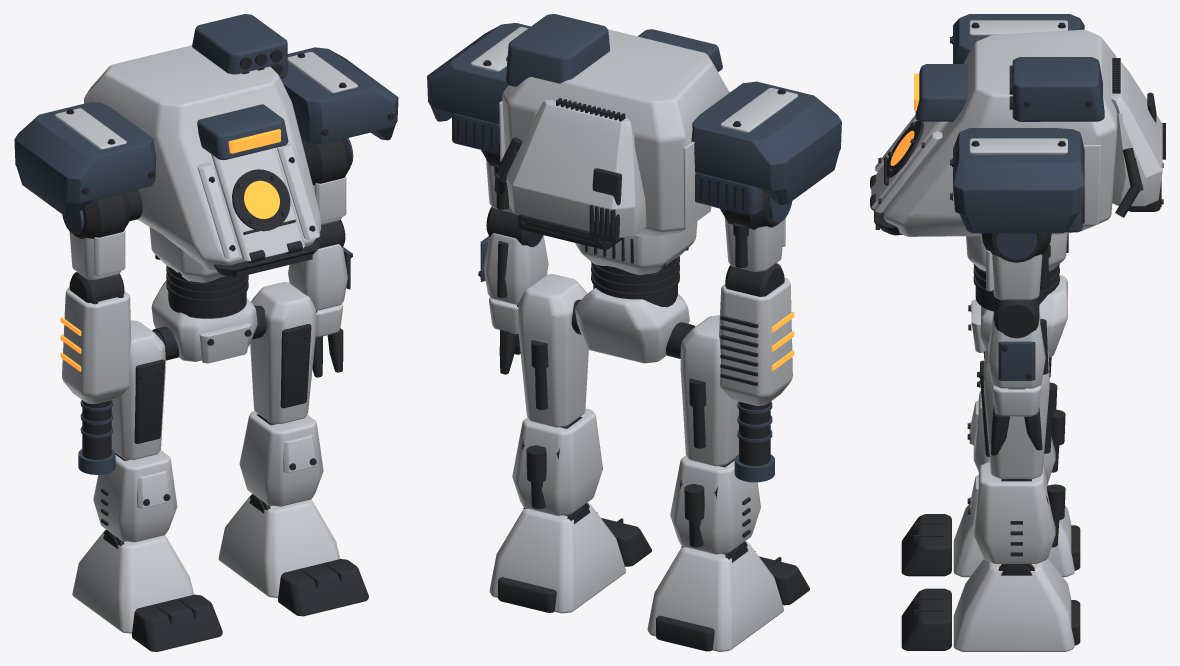
File: Titan_M1_unity.fbx
3 views of the same model, side by side, from view 1: azimuth 30°, elevation 25°; view 2: azimuth 150°, elevation 25°; view 3: azimuth 270°, elevation 25° (orthographic). The views are drawn at different scales.
Visible parts, largest first — view 1: M1_Torso_Upper, M1_Shoulder_R, M1_Cannon, M1_Shoulder_L, M1_Foot_L, M1_Foot_R, M1_Thigh_L, M1_Hatch_Center, M1_Shin_L, M1_Shin_R, M1_Thigh_R, M1_Pelvis (+13 smaller); view 2: M1_Torso_Upper, M1_Backpack, M1_Shoulder_R, M1_Cannon, M1_Foot_R, M1_Foot_L, M1_Thigh_L, M1_Shin_L, M1_Shoulder_L, M1_Shin_R, M1_Thigh_R, M1_Pelvis (+10 smaller); view 3: M1_Torso_Upper, M1_Shoulder_L, M1_Foot_L, M1_Shin_L, M1_Backpack, M1_Pod_L, M1_Forearm_L, M1_Thigh_L, M1_UpperArm_L, M1_Shoulder_R, M1_Toe_R, M1_Toe_L (+10 smaller).
Part boxes in pixels (bbox=[...]): M1_Torso_Upper: bbox=[84, 45, 321, 277]; M1_Shoulder_R: bbox=[14, 101, 156, 217]; M1_Cannon: bbox=[60, 272, 131, 474]; M1_Shoulder_L: bbox=[281, 47, 398, 144]; M1_Foot_L: bbox=[218, 495, 340, 597]; M1_Foot_R: bbox=[72, 531, 194, 633]; M1_Thigh_L: bbox=[250, 282, 317, 423]; M1_Hatch_Center: bbox=[211, 148, 304, 263]; M1_Shin_L: bbox=[239, 411, 323, 506]; M1_Shin_R: bbox=[93, 450, 177, 542]; M1_Thigh_R: bbox=[111, 320, 165, 459]; M1_Pelvis: bbox=[151, 280, 264, 363]; M1_Torso_Upper: bbox=[499, 29, 728, 237]; M1_Backpack: bbox=[494, 98, 646, 249]; M1_Shoulder_R: bbox=[691, 81, 841, 215]; M1_Cannon: bbox=[719, 263, 794, 482]; M1_Foot_R: bbox=[647, 541, 783, 651]; M1_Foot_L: bbox=[489, 502, 625, 613]; M1_Thigh_L: bbox=[517, 274, 588, 427]; M1_Shin_L: bbox=[512, 408, 602, 515]; M1_Shoulder_L: bbox=[427, 23, 530, 154]; M1_Shin_R: bbox=[670, 455, 760, 554]; M1_Thigh_R: bbox=[680, 315, 738, 466]; M1_Pelvis: bbox=[573, 288, 695, 363]; M1_Torso_Upper: bbox=[874, 29, 1117, 236]; M1_Shoulder_L: bbox=[950, 128, 1084, 233]; M1_Foot_L: bbox=[953, 558, 1080, 651]; M1_Shin_L: bbox=[967, 462, 1065, 563]; M1_Backpack: bbox=[1111, 58, 1165, 217]; M1_Pod_L: bbox=[1009, 57, 1104, 121]; M1_Forearm_L: bbox=[988, 297, 1048, 388]; M1_Thigh_L: bbox=[977, 348, 1057, 478]; M1_UpperArm_L: bbox=[981, 233, 1051, 300]; M1_Shoulder_R: bbox=[950, 14, 1084, 63]; M1_Toe_R: bbox=[901, 514, 951, 576]; M1_Toe_L: bbox=[901, 588, 951, 650].
Bounding box in the file's own units: 3.9 × 5.92 × 2.88.
